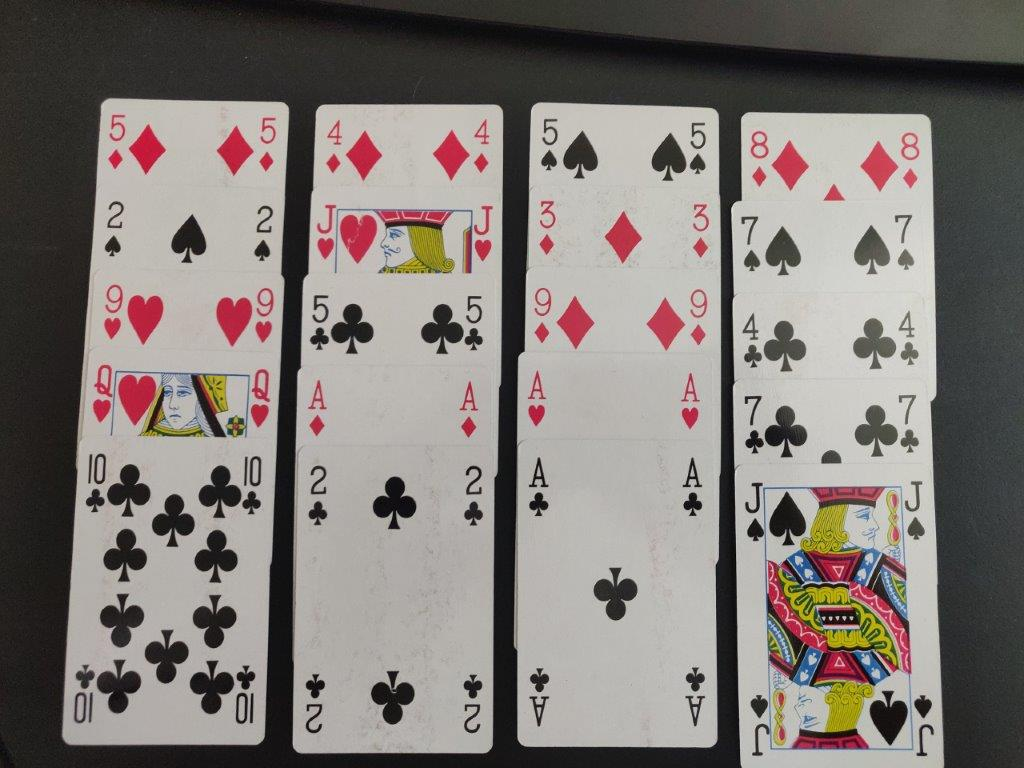10C: (80, 443, 112, 520), (238, 449, 267, 525)
2C: (303, 459, 338, 533), (458, 459, 489, 534)
2S: (100, 195, 129, 264), (250, 202, 279, 271)
3D: (532, 195, 565, 266), (689, 195, 715, 264)
4C: (893, 305, 927, 371), (738, 307, 769, 376)
4D: (469, 112, 496, 177), (319, 114, 346, 177)
5C: (308, 287, 336, 360), (461, 289, 488, 356)
5D: (99, 109, 131, 181), (254, 112, 283, 182)
5S: (536, 110, 566, 176), (685, 115, 714, 180)
7C: (891, 387, 927, 460), (740, 390, 771, 460)
7S: (888, 208, 923, 277), (734, 208, 768, 276)
8D: (895, 127, 927, 194), (744, 124, 773, 191)
9D: (529, 284, 558, 350), (685, 284, 713, 349)
9H: (251, 280, 278, 351), (101, 279, 126, 346)
AC: (523, 450, 556, 529), (677, 452, 709, 522)
AD: (454, 374, 485, 445), (302, 375, 332, 440)
AH: (677, 366, 708, 436), (523, 366, 554, 434)
JH: (311, 197, 344, 267), (467, 202, 497, 270)
QH: (86, 360, 120, 431), (246, 363, 277, 435)
